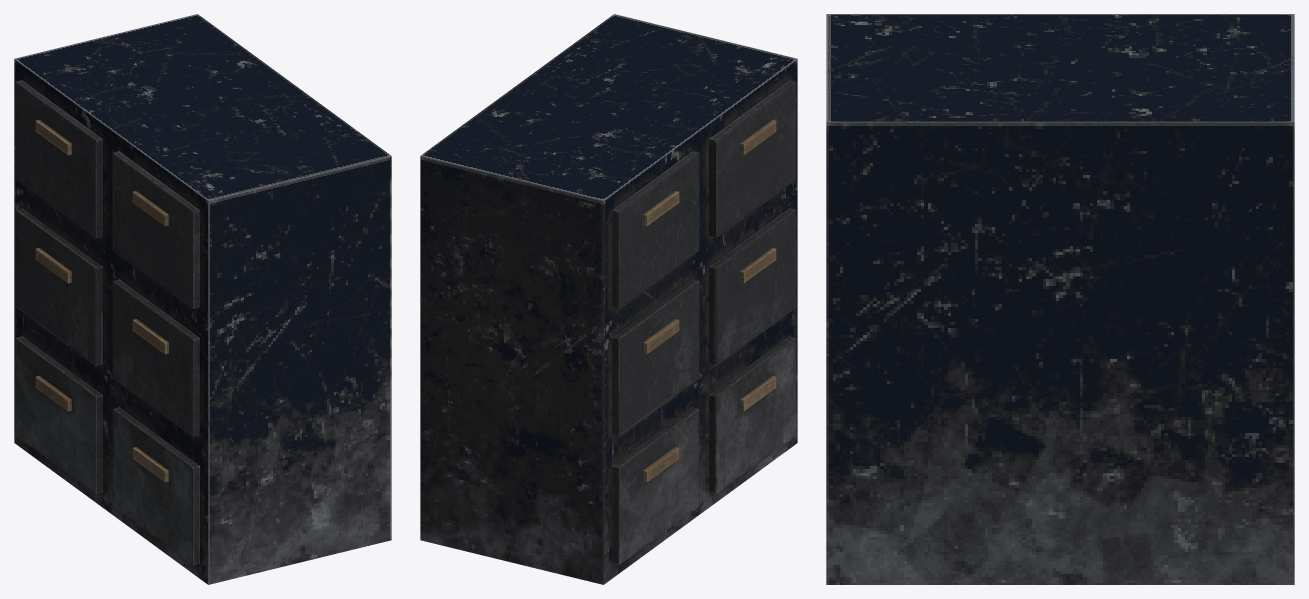
File: filecabinet_lrg.glb
The picture shows the model from 3 angles, left to right: view 1: azimuth 30°, elevation 25°; view 2: azimuth 150°, elevation 25°; view 3: azimuth 270°, elevation 25°; orthographic projection. The views are drawn at different scales.
Parts seen in each view (by area): view 1: filecabinet_large-col; view 2: filecabinet_large-col; view 3: filecabinet_large-col.
Boxes of the visible parts, left/top/right/bottom form: filecabinet_large-col: left=14, top=14, right=391, bottom=584; filecabinet_large-col: left=420, top=14, right=797, bottom=584; filecabinet_large-col: left=826, top=14, right=1294, bottom=584.
Size of the model in its own units: 2.05 by 3.87 by 3.54.
1 material, 1 textured.
